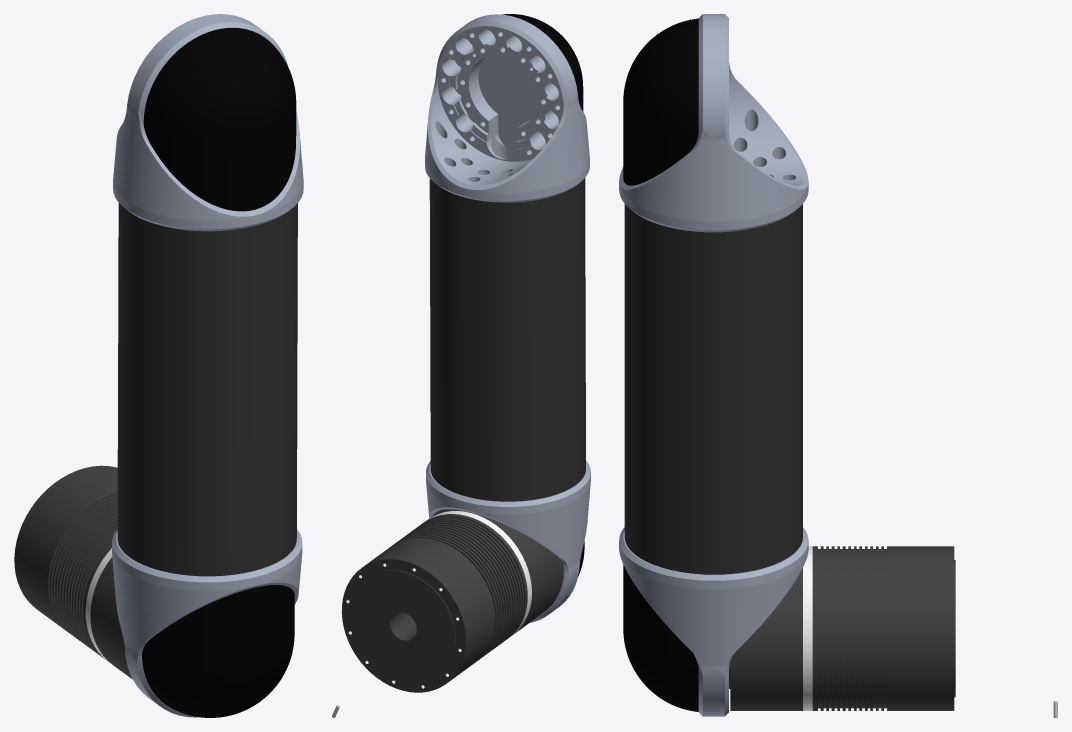
The model's file is Third.fbx.
3 views of the same model, side by side, from view 1: azimuth 30°, elevation 25°; view 2: azimuth 150°, elevation 25°; view 3: azimuth 270°, elevation 25° (orthographic). The views are drawn at different scales.
Parts seen in each view (by area): view 1: color-6, color-5, color-4, color-2, color; view 2: color-6, color-4, color-2, color-5, color; view 3: color-6, color-4, color-2, color-5, color.
Boxes of the visible parts, left/top/right/bottom form: color-6: left=117, top=203, right=297, bottom=576; color-5: left=142, top=28, right=296, bottom=717; color-4: left=112, top=14, right=303, bottom=717; color-2: left=14, top=465, right=132, bottom=679; color: left=85, top=548, right=112, bottom=663; color-6: left=429, top=178, right=585, bottom=501; color-4: left=425, top=14, right=590, bottom=622; color-2: left=341, top=509, right=563, bottom=692; color-5: left=502, top=14, right=584, bottom=576; color: left=425, top=511, right=531, bottom=637; color-6: left=624, top=204, right=802, bottom=574; color-4: left=619, top=14, right=808, bottom=716; color-2: left=729, top=546, right=955, bottom=710; color-5: left=623, top=18, right=698, bottom=711; color: left=803, top=546, right=812, bottom=710.
Size of the model in its own units: 6.95 by 27.6 by 15.97.
